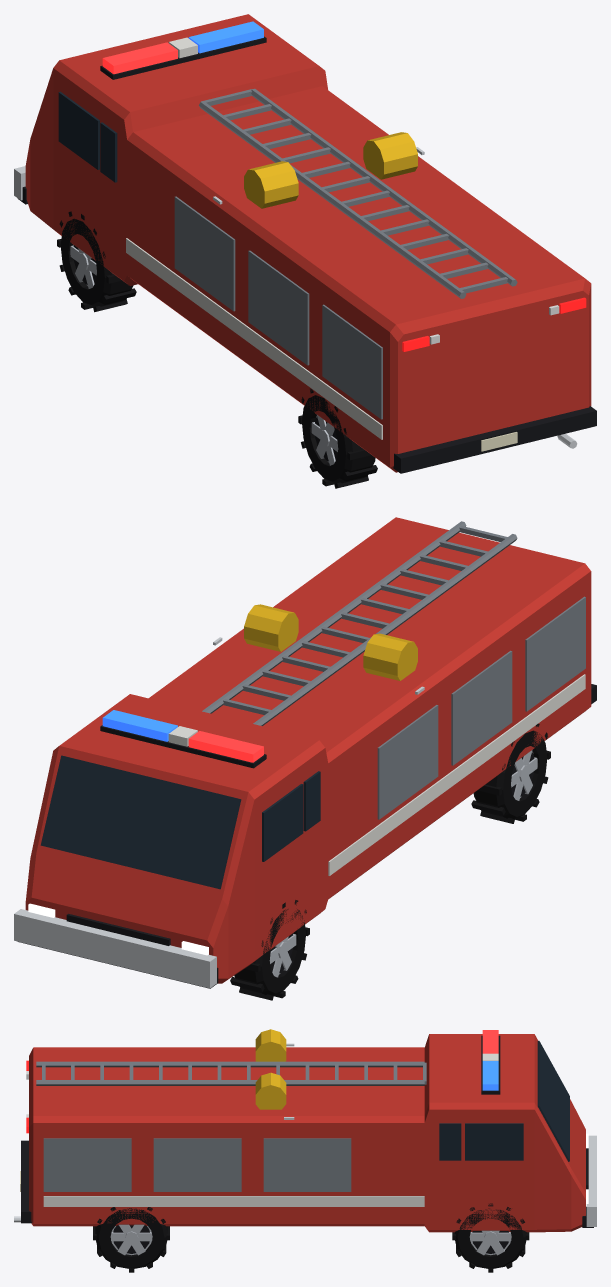
The model's file is firetruck.glb.
The picture shows the model from 3 angles, top to bottom: view 1: azimuth 30°, elevation 25°; view 2: azimuth 150°, elevation 25°; view 3: azimuth 270°, elevation 25°; orthographic projection. The views are drawn at different scales.
Parts seen in each view (by area): view 1: firetruck_Body, firetruck_Top, firetruck_Wheel_RL, firetruck_Lightbar, firetruck_Wheel_FL; view 2: firetruck_Body, firetruck_Top, firetruck_Wheel_RL, firetruck_Lightbar, firetruck_Wheel_FL; view 3: firetruck_Body, firetruck_Top, firetruck_Wheel_RR, firetruck_Wheel_FR, firetruck_Lightbar.
Part boxes in pixels (x1=…): firetruck_Body: x1=25, y1=14, x2=591, y2=472; firetruck_Top: x1=14, y1=88, x2=596, y2=473; firetruck_Wheel_RL: x1=298, y1=388, x2=377, y2=488; firetruck_Lightbar: x1=100, y1=21, x2=266, y2=79; firetruck_Wheel_FL: x1=57, y1=211, x2=136, y2=312; firetruck_Body: x1=25, y1=517, x2=591, y2=983; firetruck_Top: x1=14, y1=521, x2=596, y2=988; firetruck_Wheel_RL: x1=471, y1=723, x2=550, y2=823; firetruck_Lightbar: x1=100, y1=710, x2=266, y2=768; firetruck_Wheel_FL: x1=230, y1=900, x2=309, y2=1000; firetruck_Body: x1=29, y1=1034, x2=585, y2=1232; firetruck_Top: x1=14, y1=1029, x2=596, y2=1227; firetruck_Wheel_RR: x1=93, y1=1207, x2=169, y2=1272; firetruck_Wheel_FR: x1=452, y1=1203, x2=529, y2=1272; firetruck_Lightbar: x1=481, y1=1030, x2=500, y2=1094.
Size of the model in its own units: 2.41 by 2.7 by 7.96.
